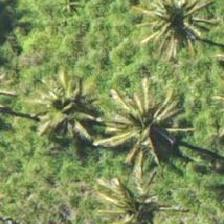Kelapa_Sawit: (13, 61, 103, 151), (96, 80, 186, 170), (140, 0, 223, 63), (84, 168, 175, 223)
